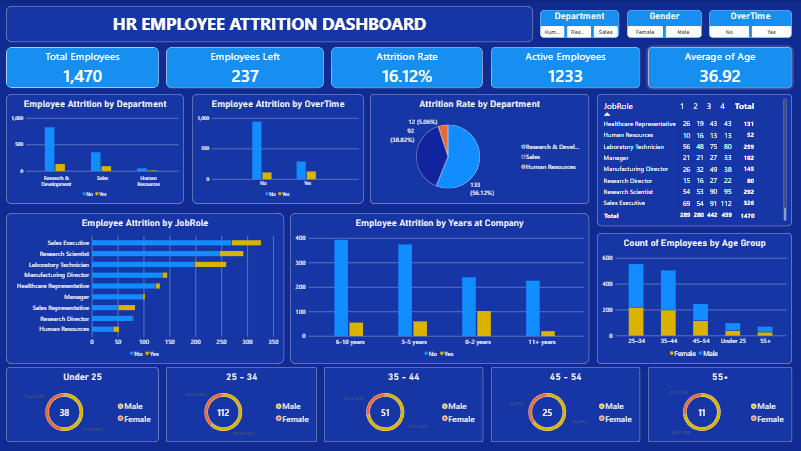

This screenshot's page, from the dashboard's own definition file:
{"tool":"powerbi","page":{"name":"Page 1","canvas":[2560,1440],"ordinal":0},"visuals":[{"type":"cardVisual","title":"Total Employees","fields":{"Data":["HR-Employee-Attrition-Cleaned.Total Employees Display"]},"box":[25.5,149.7,487.4,130.6],"z":0},{"type":"cardVisual","fields":{"Data":["HR-Employee-Attrition-Cleaned.Employees Left"]},"box":[535.2,149.7,503.4,130.6],"z":1},{"type":"cardVisual","fields":{"Data":["HR-Employee-Attrition-Cleaned.Attrition Rate"]},"box":[1060.9,149.7,484.2,130.6],"z":2},{"type":"clusteredColumnChart","title":"Employee Attrition by Department","fields":{"Category":["HR-Employee-Attrition-Cleaned.Department"],"Series":["HR-Employee-Attrition-Cleaned.Attrition"],"Y":["CountNonNull(HR-Employee-Attrition-Cleaned.EmployeeNumber)"]},"box":[25.5,299.5,567.1,350.4],"z":3},{"type":"clusteredColumnChart","title":"Employee Attrition by OverTime","fields":{"Category":["HR-Employee-Attrition-Cleaned.OverTime"],"Series":["HR-Employee-Attrition-Cleaned.Attrition"],"Y":["CountNonNull(HR-Employee-Attrition-Cleaned.EmployeeNumber)"]},"box":[618.1,299.5,548,350.4],"z":4},{"type":"barChart","title":"Employee Attrition by JobRole","fields":{"Category":["HR-Employee-Attrition-Cleaned.JobRole"],"Series":["HR-Employee-Attrition-Cleaned.Attrition"],"Y":["CountNonNull(HR-Employee-Attrition-Cleaned.EmployeeNumber)"]},"box":[25.5,678.6,885.7,481.1],"z":5},{"type":"clusteredColumnChart","title":"Employee Attrition by Years at Company","fields":{"Category":["HR-Employee-Attrition-Cleaned.Years at Company Group"],"Series":["HR-Employee-Attrition-Cleaned.Attrition"],"Y":["CountNonNull(HR-Employee-Attrition-Cleaned.EmployeeNumber)"]},"box":[930.3,678.6,952.6,481.1],"z":6},{"type":"textbox","box":[25.5,19.1,1678.9,114.7],"z":7},{"type":"advancedSlicerVisual","fields":{"Values":["HR-Employee-Attrition-Cleaned.Department"]},"box":[1726.7,31.9,251.7,89.2],"z":8},{"type":"advancedSlicerVisual","fields":{"Values":["HR-Employee-Attrition-Cleaned.OverTime"]},"box":[2265.1,31.9,264.4,89.2],"z":9},{"type":"advancedSlicerVisual","fields":{"Values":["HR-Employee-Attrition-Cleaned.Gender"]},"box":[2003.9,31.9,238.9,89.2],"z":10},{"type":"pieChart","title":"Attrition Rate by Department","fields":{"Category":["HR-Employee-Attrition-Cleaned.Department"],"Y":["HR-Employee-Attrition-Cleaned.Employees Left"]},"box":[1185.1,299.5,697.7,350.4],"z":11},{"type":"cardVisual","fields":{"Data":["HR-Employee-Attrition-Cleaned.Active Employees"]},"box":[1570.6,149.7,474.7,130.6],"z":12},{"type":"cardVisual","fields":{"Data":["Avg(HR-Employee-Attrition-Cleaned.Age)"]},"box":[2070.8,149.7,458.8,130.6],"z":13},{"type":"pivotTable","fields":{"Columns":["HR-Employee-Attrition-Cleaned.JobSatisfaction"],"Rows":["HR-Employee-Attrition-Cleaned.JobRole"],"Values":["CountNonNull(HR-Employee-Attrition-Cleaned.EmployeeNumber)"]},"box":[1908.3,299.5,621.2,420.5],"z":14},{"type":"columnChart","title":"Count of Employees by Age Group","fields":{"Category":["HR-Employee-Attrition-Cleaned.Age Group"],"Series":["HR-Employee-Attrition-Cleaned.Gender"],"Y":["CountNonNull(HR-Employee-Attrition-Cleaned.EmployeeNumber)"]},"box":[1908.3,742.3,621.2,417.3],"z":15},{"type":"donutChart","title":"Under 25","fields":{"Category":["HR-Employee-Attrition-Cleaned.Gender"],"Y":["HR-Employee-Attrition-Cleaned.Employees Left"]},"box":[25.5,1169.2,487.4,238.9],"z":16},{"type":"donutChart","title":"25 - 34","fields":{"Category":["HR-Employee-Attrition-Cleaned.Gender"],"Y":["HR-Employee-Attrition-Cleaned.Employees Left"]},"box":[535.2,1169.2,481.1,238.9],"z":18},{"type":"donutChart","title":"35 - 44","fields":{"Category":["HR-Employee-Attrition-Cleaned.Gender"],"Y":["HR-Employee-Attrition-Cleaned.Employees Left"]},"box":[1038.6,1169.2,506.5,238.9],"z":19},{"type":"donutChart","title":"45 - 54","fields":{"Category":["HR-Employee-Attrition-Cleaned.Gender"],"Y":["HR-Employee-Attrition-Cleaned.Employees Left"]},"box":[1570.6,1169.2,474.7,238.9],"z":20},{"type":"donutChart","title":"55+","fields":{"Category":["HR-Employee-Attrition-Cleaned.Gender"],"Y":["HR-Employee-Attrition-Cleaned.Employees Left"]},"box":[2070.8,1169.2,458.8,238.9],"z":21}]}

Visuals, with their boxes in screenshot pixels (x1, y1, x2, y2), scaled from the page's 2560x1440 canvas onto the 801x451 screenshot:
"Total Employees" cardVisual: <region>8, 47, 160, 88</region>
cardVisual - HR-Employee-Attrition-Cleaned.Employees Left: <region>167, 47, 325, 88</region>
cardVisual - HR-Employee-Attrition-Cleaned.Attrition Rate: <region>332, 47, 483, 88</region>
"Employee Attrition by Department" clusteredColumnChart: <region>8, 94, 185, 204</region>
"Employee Attrition by OverTime" clusteredColumnChart: <region>193, 94, 365, 204</region>
"Employee Attrition by JobRole" barChart: <region>8, 213, 285, 363</region>
"Employee Attrition by Years at Company" clusteredColumnChart: <region>291, 213, 589, 363</region>
textbox: <region>8, 6, 533, 42</region>
advancedSlicerVisual - HR-Employee-Attrition-Cleaned.Department: <region>540, 10, 619, 38</region>
advancedSlicerVisual - HR-Employee-Attrition-Cleaned.OverTime: <region>709, 10, 791, 38</region>
advancedSlicerVisual - HR-Employee-Attrition-Cleaned.Gender: <region>627, 10, 702, 38</region>
"Attrition Rate by Department" pieChart: <region>371, 94, 589, 204</region>
cardVisual - HR-Employee-Attrition-Cleaned.Active Employees: <region>491, 47, 640, 88</region>
cardVisual - Avg(HR-Employee-Attrition-Cleaned.Age): <region>648, 47, 791, 88</region>
pivotTable - HR-Employee-Attrition-Cleaned.JobSatisfaction x HR-Employee-Attrition-Cleaned.JobRole: <region>597, 94, 791, 226</region>
"Count of Employees by Age Group" columnChart: <region>597, 232, 791, 363</region>
"Under 25" donutChart: <region>8, 366, 160, 441</region>
"25 - 34" donutChart: <region>167, 366, 318, 441</region>
"35 - 44" donutChart: <region>325, 366, 483, 441</region>
"45 - 54" donutChart: <region>491, 366, 640, 441</region>
"55+" donutChart: <region>648, 366, 791, 441</region>
